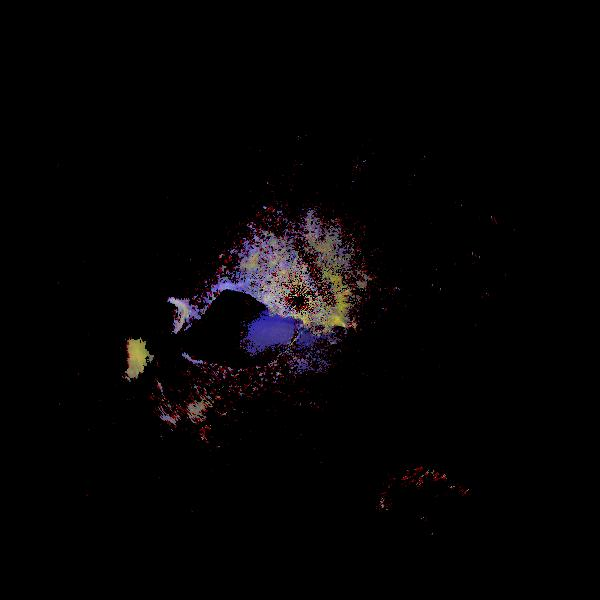roost: (36, 297, 174, 435)
